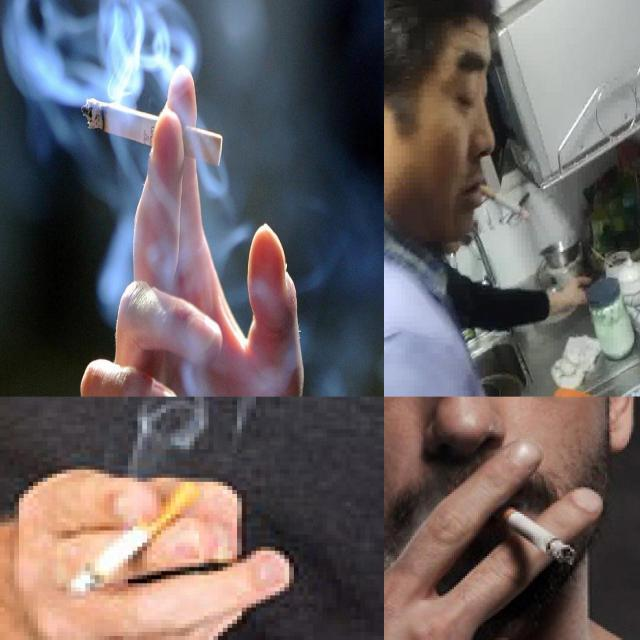cigarette: (70, 481, 200, 594), (82, 97, 224, 167), (500, 504, 572, 562), (476, 183, 530, 220)
